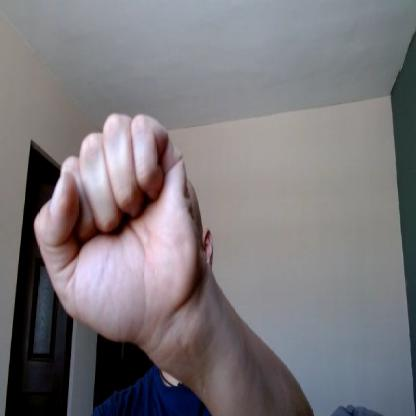S: (32, 111, 200, 345)
